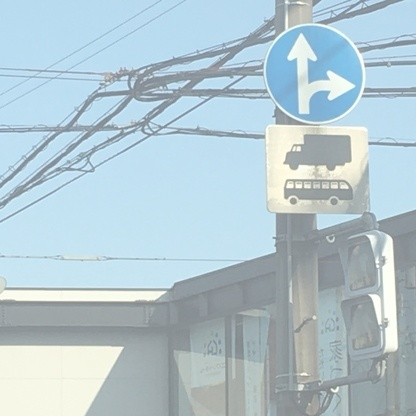Direction_sign: (255, 25, 365, 124)
